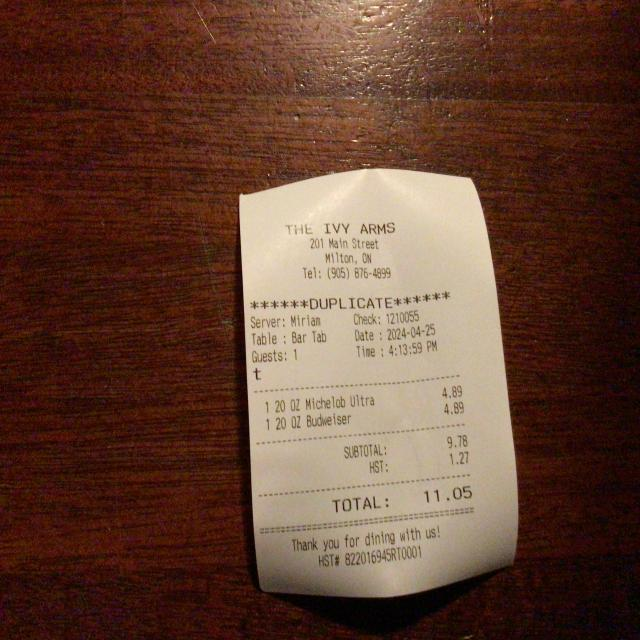item: (272, 399, 468, 431), (272, 384, 465, 414)
store_name: (280, 216, 401, 242)
total_amount: (328, 482, 479, 518)
transaction_date: (352, 322, 441, 343)
